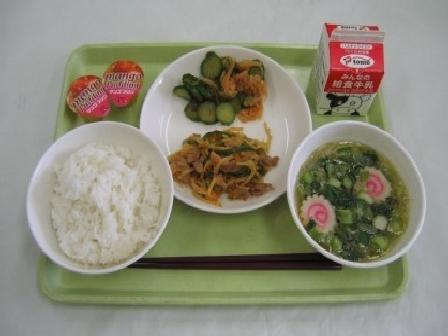Cup desserts: (59, 58, 150, 121)
Milk: (301, 15, 404, 125)
Rice: (26, 131, 168, 279)
Salad: (173, 49, 272, 123)
Soups: (282, 124, 432, 270)
cooked food meat with vegetables: (165, 120, 277, 208)
